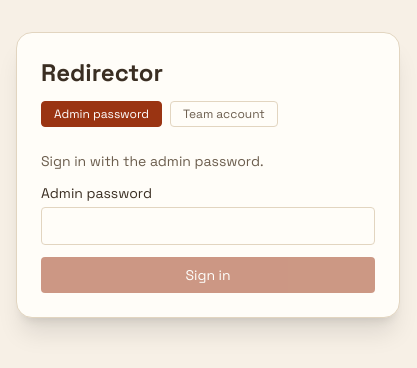
Scenario: Login › shows an error on wrong password
This screenshot has width=417, height=368.
Type "nope" into the password field labelled "Admin password" at [208, 226], box [41, 207, 375, 245]
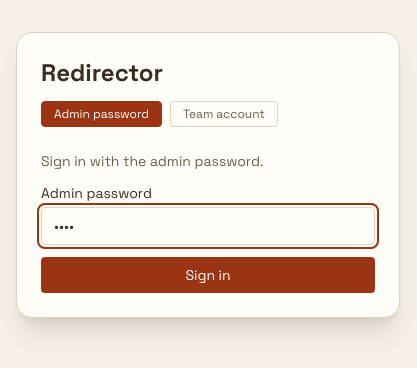
Click the button "Sign in" at [208, 275], box [41, 257, 375, 293]
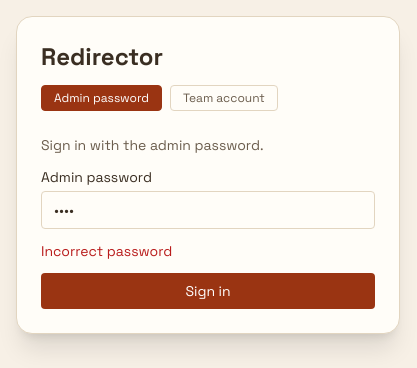
Now the message reads "Incorrect password", box [41, 242, 172, 260]
